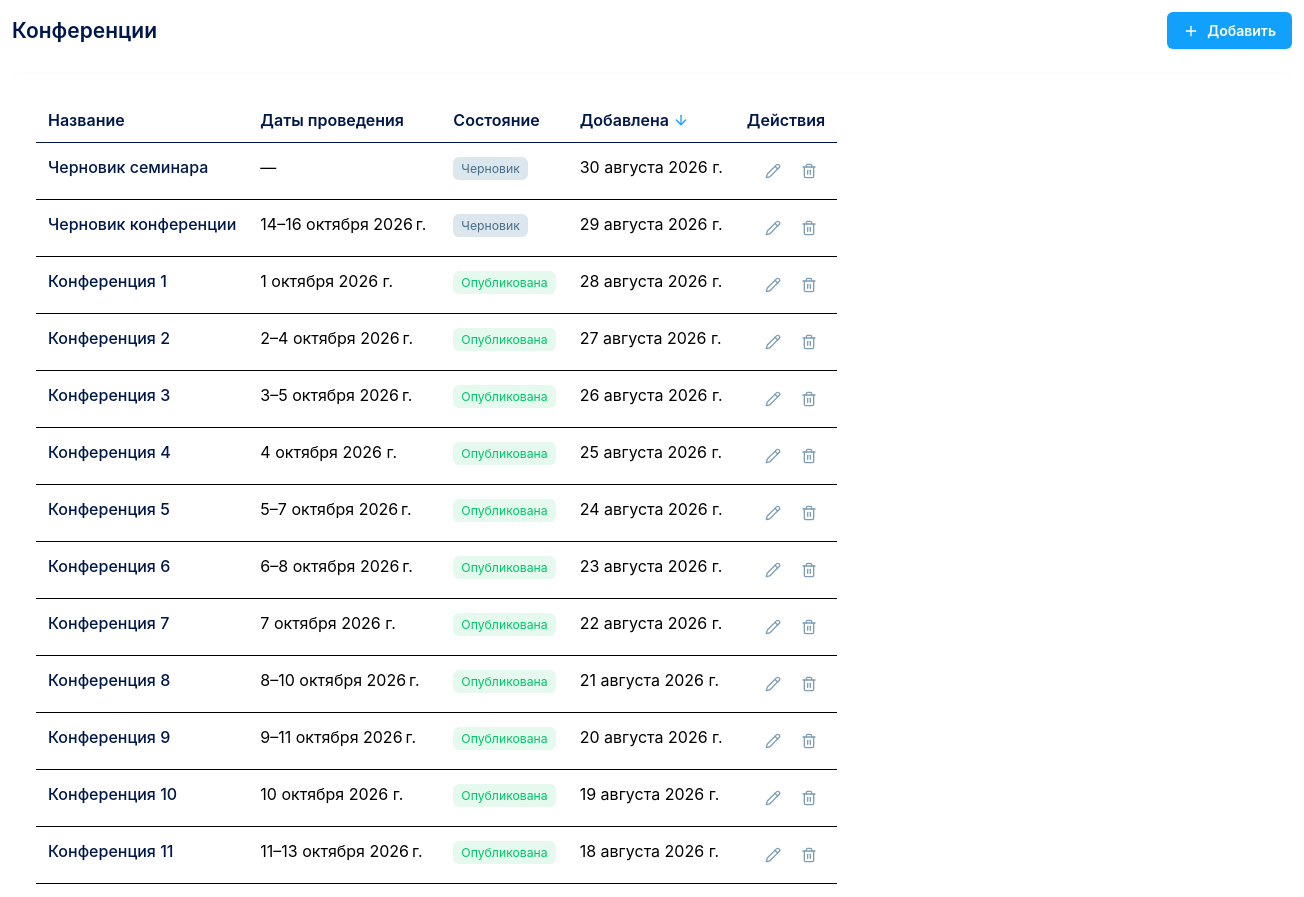
AdminConferencesPage, список › меняет порядок кликом по заголовку «Добавлена»
Click the button "Добавлена" at (634, 120), box 580,108 -> 689,132
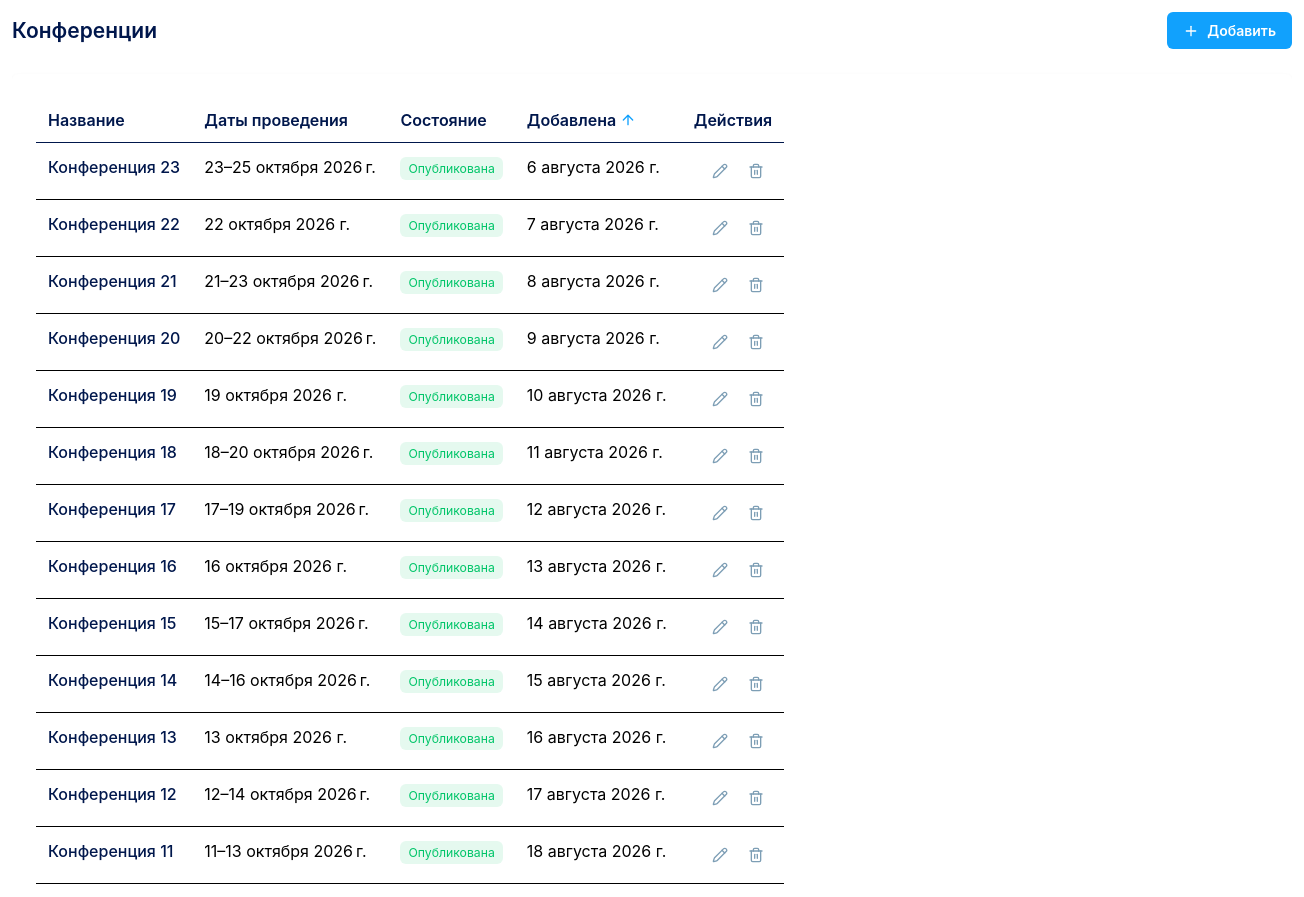
expect the cell "Конференция 23" is shown: met, box 36,142 -> 192,200
